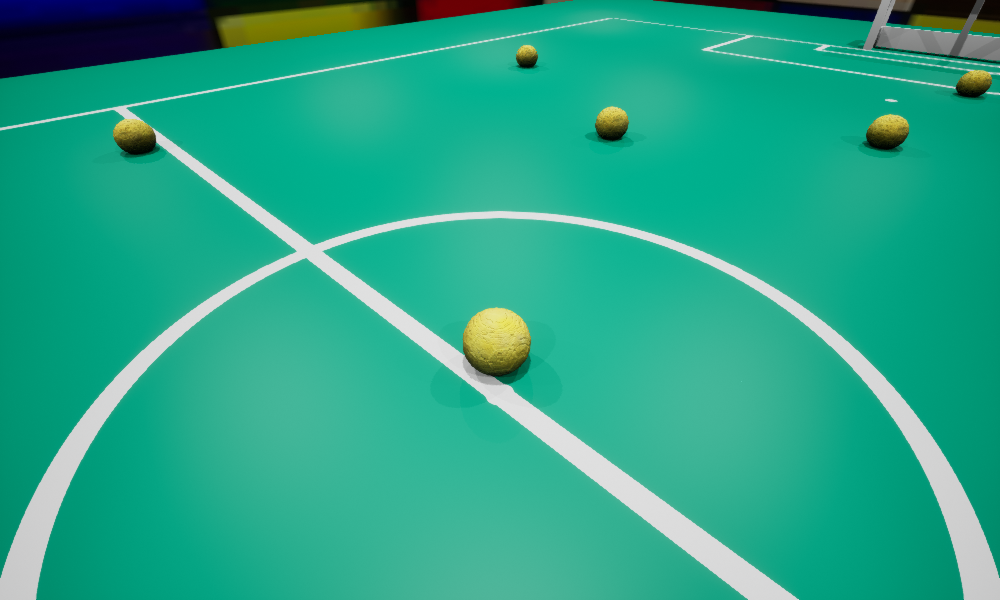b: (462, 307, 530, 375), (113, 119, 155, 153), (866, 114, 908, 148), (595, 106, 628, 139), (956, 70, 991, 95), (516, 45, 537, 67)
g: (863, 0, 999, 60)
